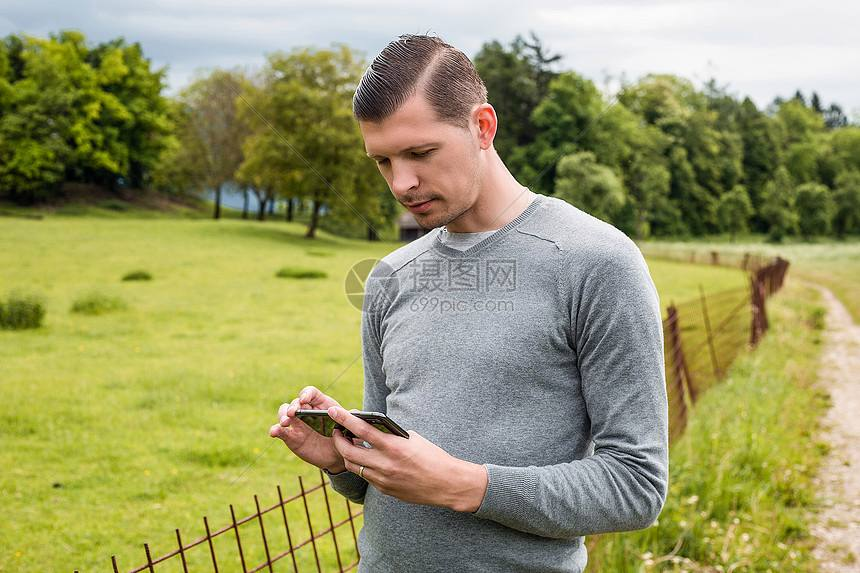reading: (266, 383, 470, 515)
